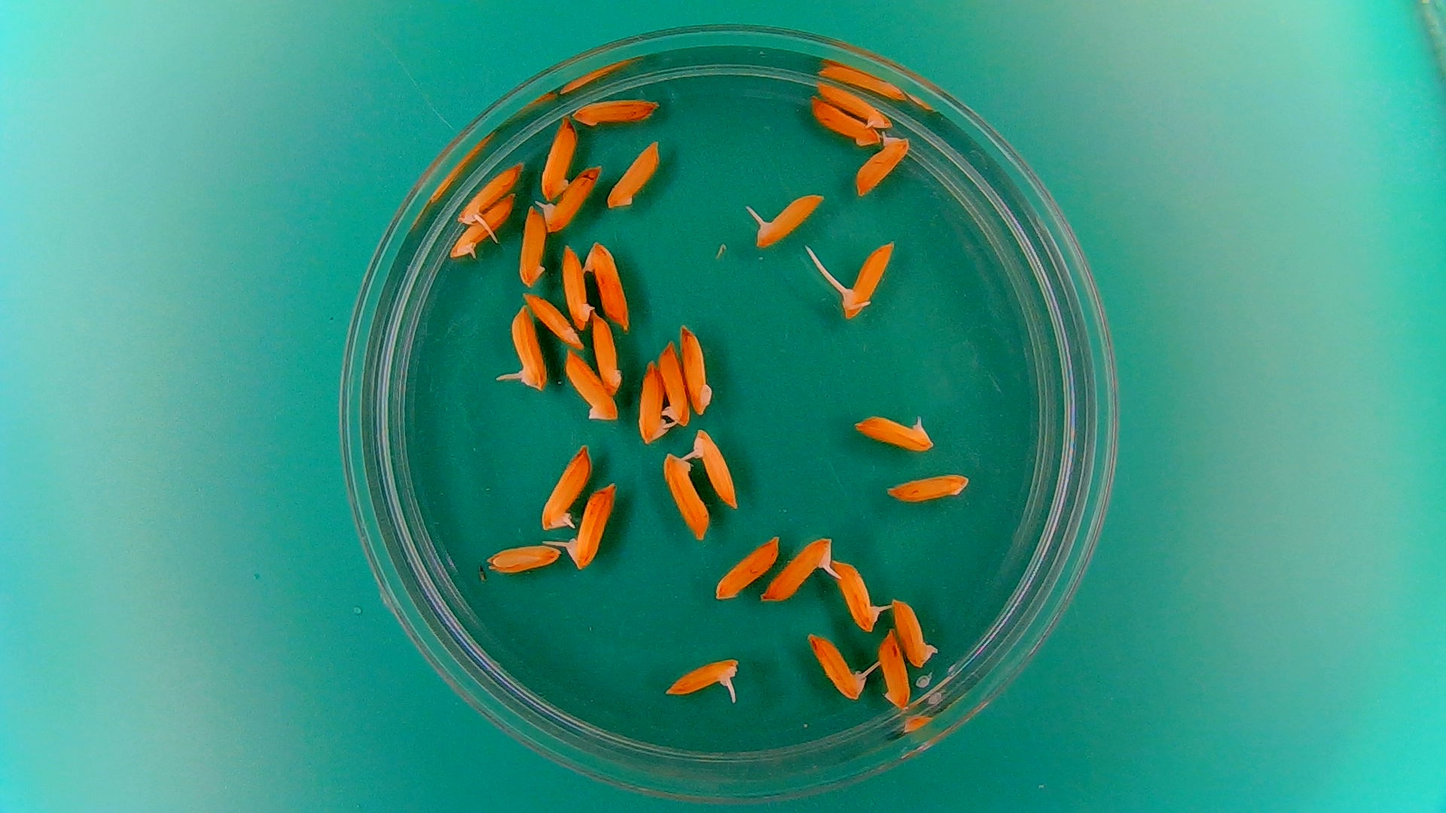no: (658, 449, 711, 545), (711, 531, 781, 599), (604, 134, 664, 213), (561, 343, 619, 424), (521, 289, 588, 352), (585, 242, 629, 330), (806, 99, 885, 148), (679, 321, 718, 419), (535, 113, 576, 201), (568, 92, 662, 128), (883, 467, 972, 505), (560, 241, 593, 332), (656, 341, 690, 429), (877, 624, 911, 711), (591, 312, 626, 396), (483, 539, 563, 575), (517, 202, 549, 290), (892, 598, 931, 669)
yes: (762, 536, 834, 604), (456, 161, 527, 224), (537, 443, 587, 531), (840, 240, 891, 318), (449, 194, 515, 254), (807, 634, 865, 701), (569, 483, 615, 567), (755, 192, 823, 248), (815, 80, 890, 129), (690, 431, 737, 507), (544, 166, 597, 231), (853, 136, 910, 196), (831, 561, 878, 633), (636, 360, 673, 446), (511, 304, 548, 389), (667, 654, 737, 698), (857, 414, 934, 453)
